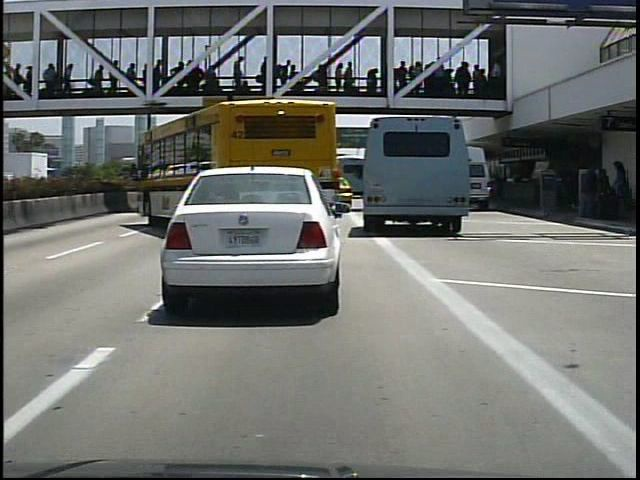person: (581, 159, 613, 220), (609, 157, 636, 223)
